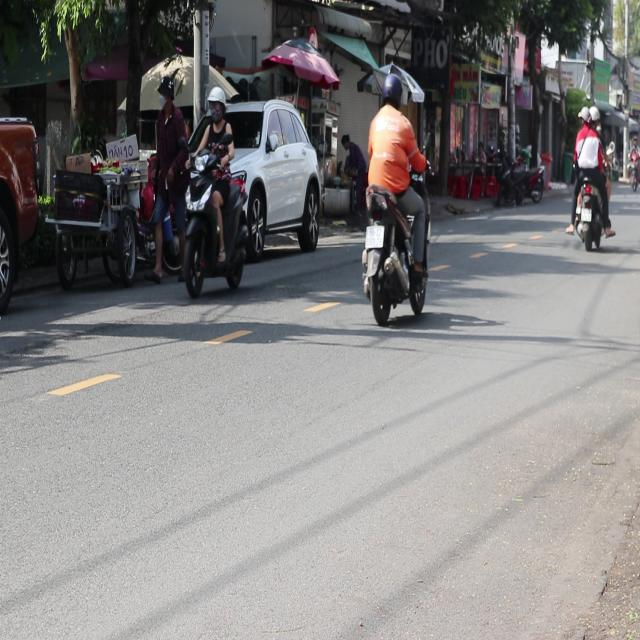helmet: (379, 71, 402, 109), (206, 86, 226, 125)
licenseplate: (359, 68, 432, 324), (181, 84, 249, 299)
nohelmet: (364, 225, 384, 247)
